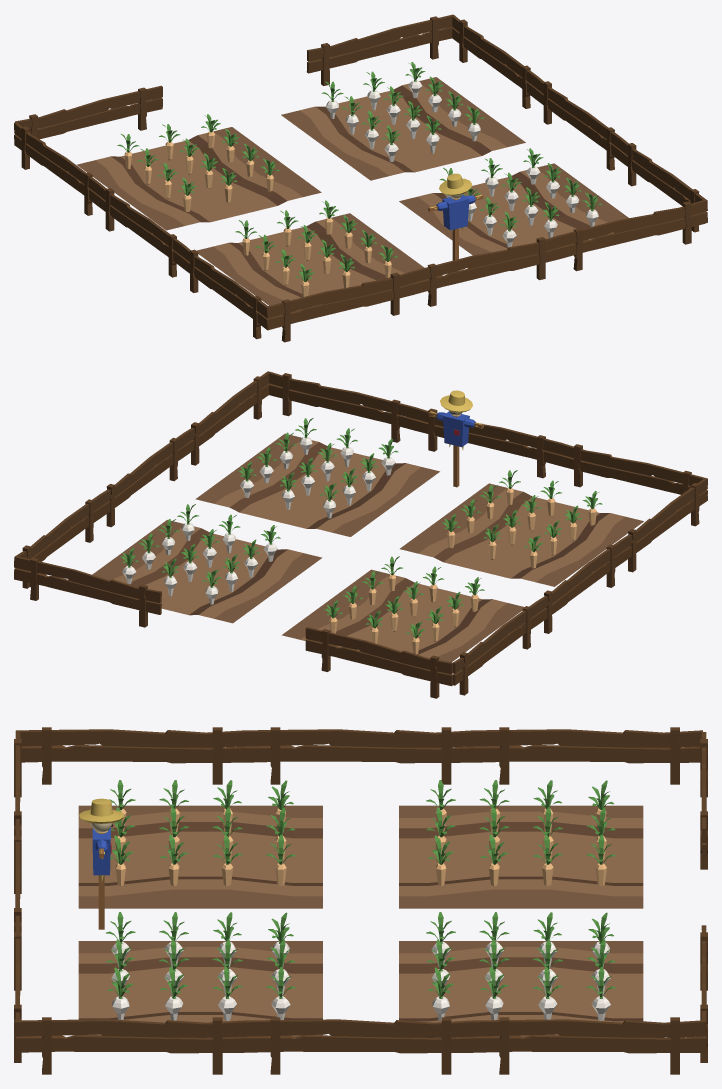
The model's file is london_bld_garden.glb.
3 renders of one model, top to bottom at view 1: azimuth 30°, elevation 25°; view 2: azimuth 150°, elevation 25°; view 3: azimuth 270°, elevation 25°, orthographic. The views are drawn at different scales.
Visible parts, largest first — view 1: ground_pathStraight (×4), Fence (×11), Scarecrow shirt, Scarecrow hat; view 2: ground_pathStraight (×4), Fence (×11), Scarecrow shirt, Scarecrow hat; view 3: ground_pathStraight (×4), Fence (×11), crop_turnip (×7), Scarecrow shirt, Scarecrow hat.
Part boxes in pixels (box(x1,y1,x2,y2)): ground_pathStraight (×4): box(76, 77, 628, 311); Fence (×11): box(14, 14, 707, 342); Scarecrow shirt: box(436, 194, 475, 230); Scarecrow hat: box(439, 173, 472, 195); ground_pathStraight (×4): box(92, 433, 643, 662); Fence (×11): box(14, 371, 707, 698); Scarecrow shirt: box(436, 411, 475, 447); Scarecrow hat: box(440, 390, 472, 412); ground_pathStraight (×4): box(78, 805, 643, 1037); Fence (×11): box(14, 727, 707, 1074); crop_turnip (×7): box(108, 967, 616, 1020); Scarecrow shirt: box(92, 827, 110, 875); Scarecrow hat: box(79, 798, 123, 823).
Bounding box in the file's own units: 9.1 × 1.85 × 9.1.
